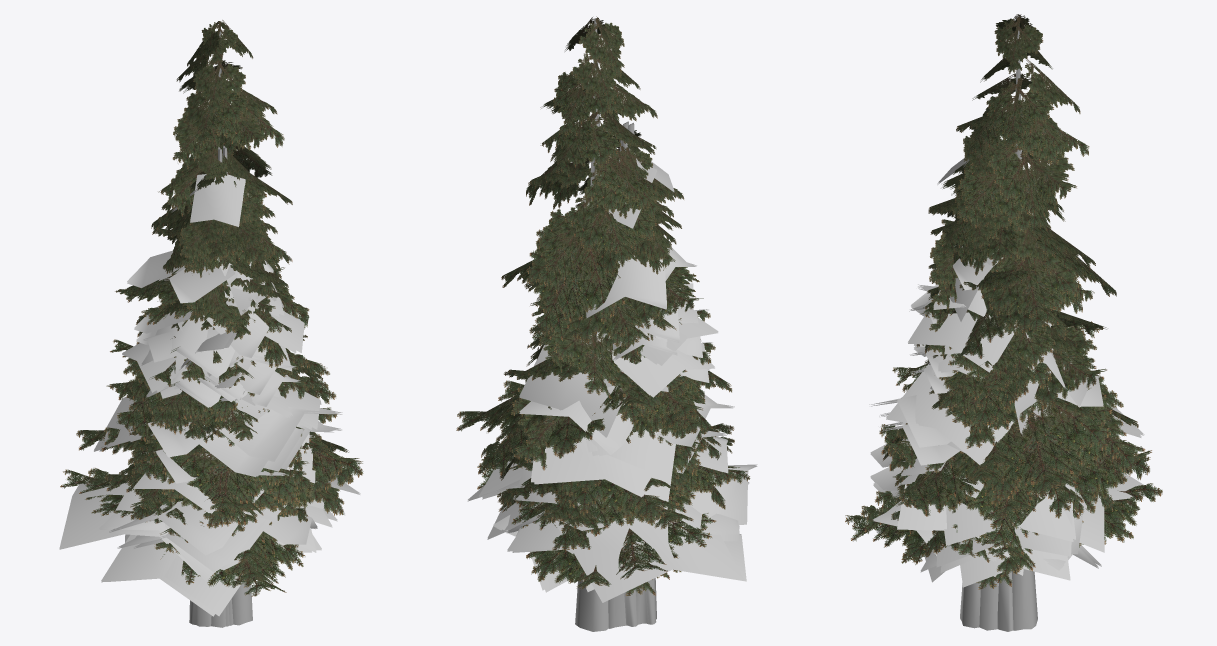
Rendered from pine_trees_medium_FBX.fbx.
3 renders of one model, left to right at view 1: azimuth 30°, elevation 25°; view 2: azimuth 150°, elevation 25°; view 3: azimuth 270°, elevation 25°, orthographic. The views are drawn at different scales.
Visible parts, largest first — view 1: 02, 03, 06, 14, 16, 01, 11, 07, 08, 05, 10, 13 (+4 smaller); view 2: 03, 14, 02, 06, 11, 10, 16, 17, 01, 05, 18, 15 (+1 smaller); view 3: 03, 16, 02, 13, 18, 01, 05, 08, 15, 14, 06, 07 (+2 smaller).
Part boxes in pixels (x1,y1,x2,y2): 02: (60, 171, 363, 596); 03: (76, 20, 348, 567); 06: (109, 147, 360, 627); 14: (59, 231, 345, 616); 16: (99, 244, 351, 616); 01: (104, 173, 337, 584); 11: (111, 248, 329, 626); 07: (117, 261, 314, 625); 08: (134, 296, 320, 625); 05: (137, 145, 309, 626); 10: (104, 253, 331, 574); 13: (205, 260, 341, 527); 03: (456, 16, 731, 631); 14: (482, 223, 746, 602); 02: (477, 157, 750, 628); 06: (512, 122, 757, 552); 11: (613, 234, 739, 624); 10: (563, 239, 731, 624); 16: (479, 234, 728, 590); 17: (537, 331, 702, 492); 01: (501, 147, 721, 571); 05: (507, 121, 739, 553); 18: (487, 312, 645, 591); 15: (467, 336, 697, 627); 03: (875, 14, 1162, 630); 16: (876, 216, 1141, 577); 02: (845, 190, 1145, 589); 13: (879, 257, 1053, 630); 18: (921, 306, 1088, 631); 01: (860, 158, 1097, 562); 05: (897, 135, 1104, 552); 08: (873, 287, 1084, 628); 15: (920, 323, 1113, 576); 14: (886, 227, 1156, 573); 06: (870, 132, 1104, 559); 07: (870, 245, 1099, 503).
Size of the model in its own units: 977 by 1754 by 993.
